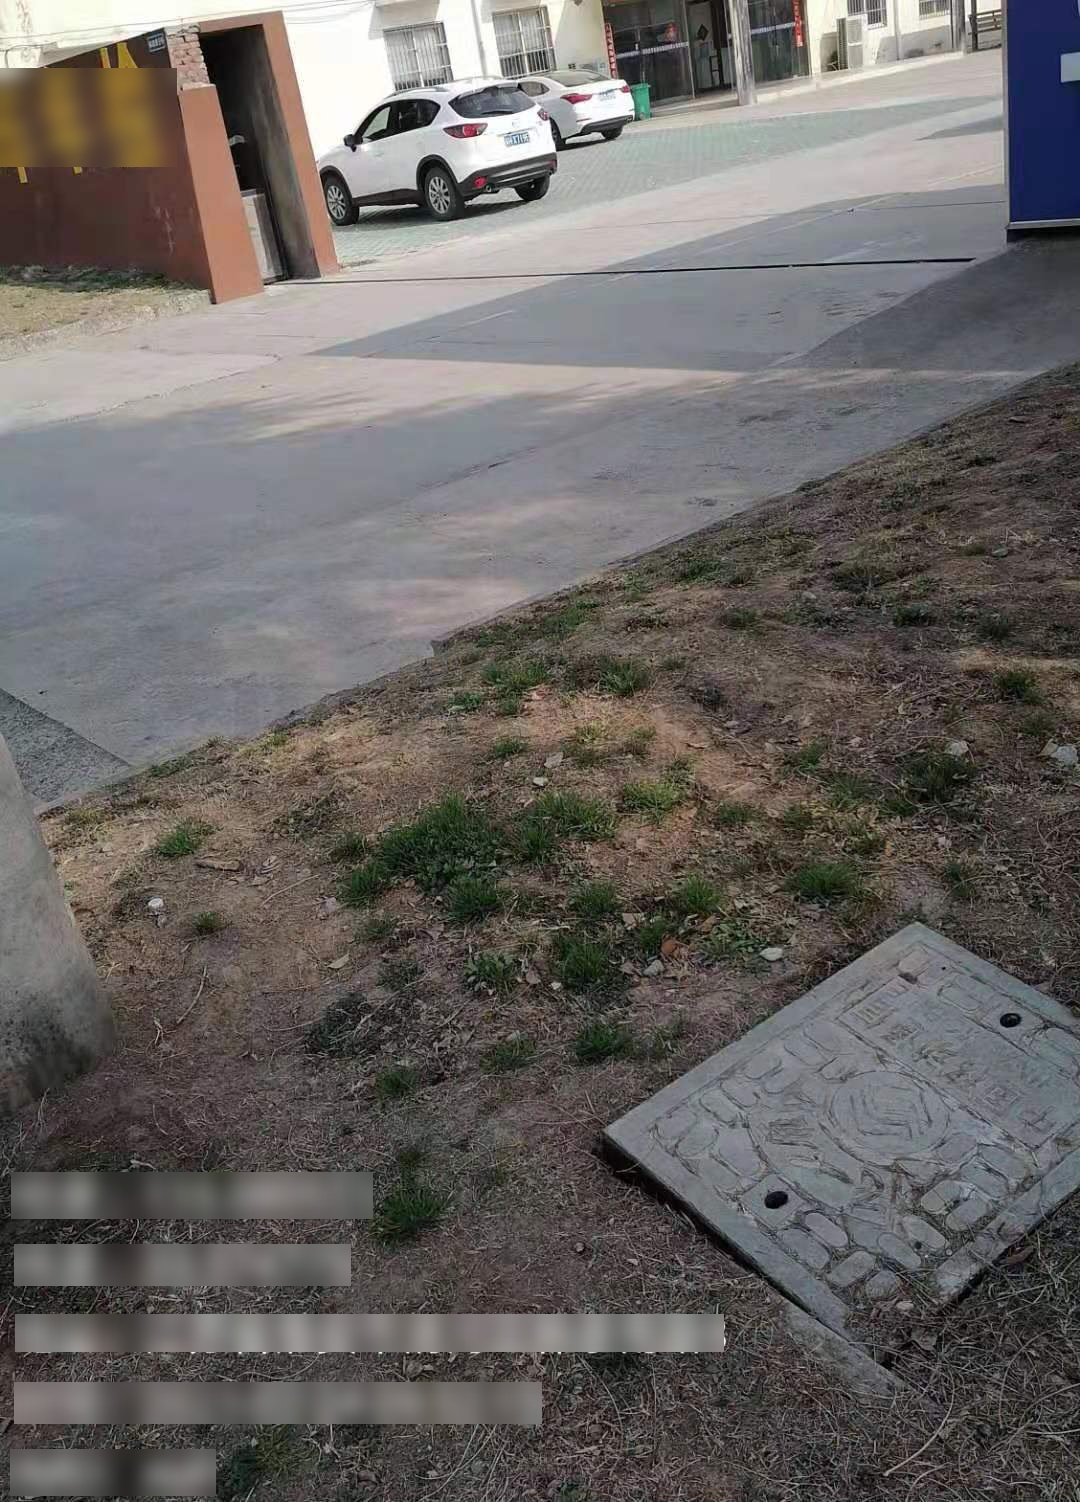uncovered: (592, 922, 1080, 1361)
